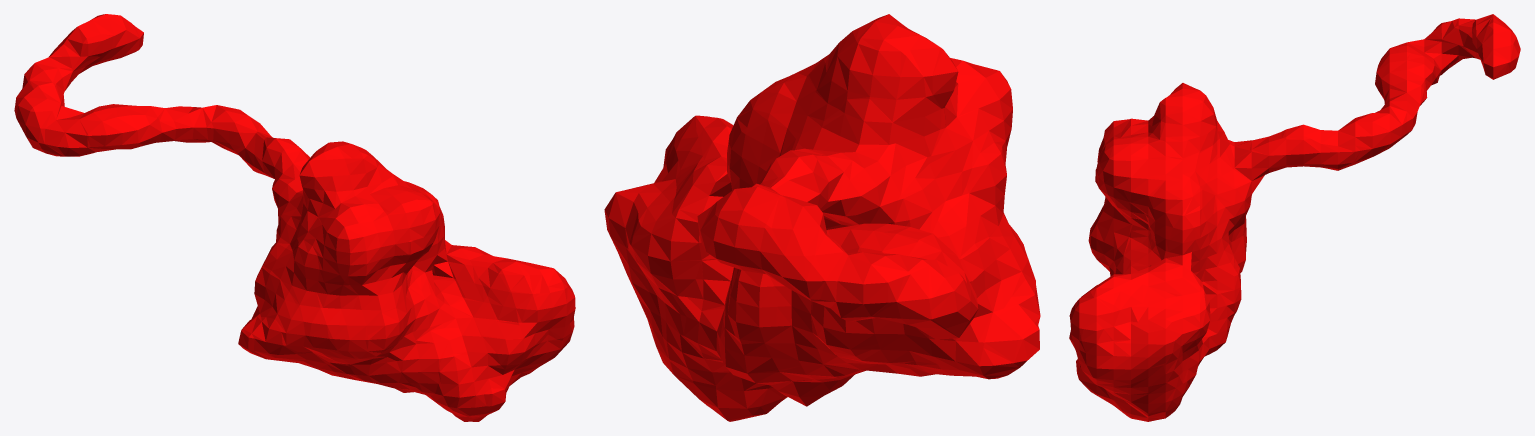
File: paaX_coarse.dae
3 renders of one model, left to right at view 1: azimuth 30°, elevation 25°; view 2: azimuth 150°, elevation 25°; view 3: azimuth 270°, elevation 25°, orthographic. The views are drawn at different scales.
Visible parts, largest first — view 1: paaX; view 2: paaX; view 3: paaX.
Part boxes in pixels (bbox=[...]): paaX: bbox=[14, 14, 575, 421]; paaX: bbox=[604, 14, 1040, 421]; paaX: bbox=[1069, 14, 1520, 421].
Bounding box in the file's own units: 91.96 × 75.19 × 98.83.
